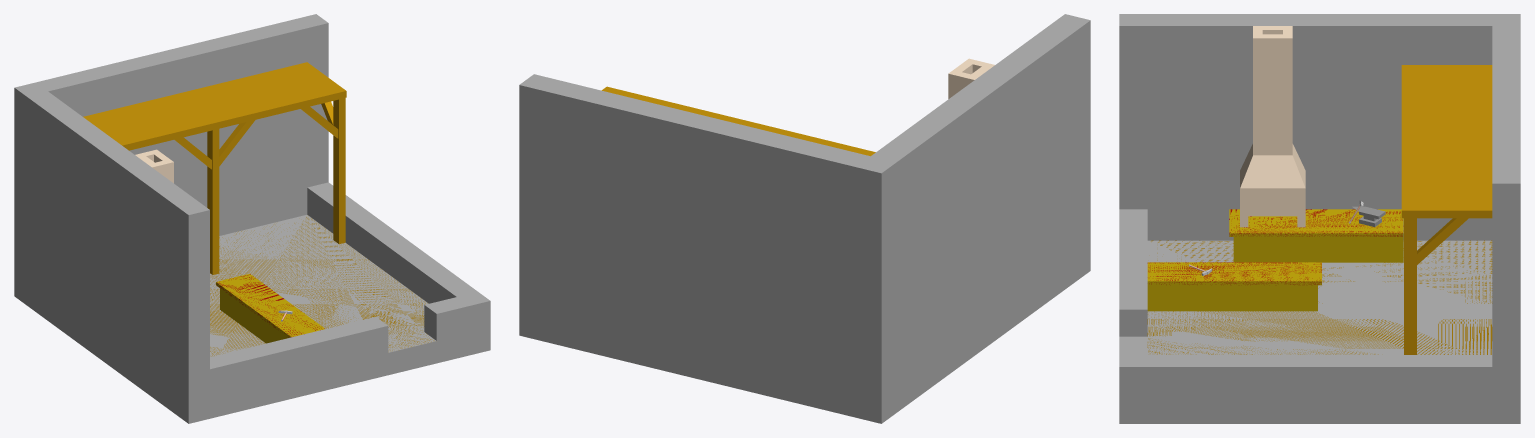
The model's file is herreria.fbx.
3 renders of one model, left to right at view 1: azimuth 30°, elevation 25°; view 2: azimuth 150°, elevation 25°; view 3: azimuth 270°, elevation 25°, orthographic. The views are drawn at different scales.
Parts seen in each view (by area): view 1: group_0, group_1, group_2, group_6, group_2.003, group_5, group_7, group_2.005; view 2: group_0, group_2, group_7; view 3: group_0, group_1, group_2, group_7, group_5, group_3, group_6, group_4.
Boxes of the visible parts, bbox=[...] form: group_0: bbox=[14, 14, 490, 423]; group_1: bbox=[210, 215, 436, 356]; group_2: bbox=[83, 62, 346, 244]; group_6: bbox=[216, 273, 324, 337]; group_2.003: bbox=[207, 129, 219, 274]; group_5: bbox=[220, 288, 287, 343]; group_7: bbox=[135, 149, 173, 183]; group_2.005: bbox=[219, 120, 255, 166]; group_0: bbox=[519, 14, 1090, 423]; group_2: bbox=[601, 86, 875, 156]; group_7: bbox=[948, 58, 994, 98]; group_0: bbox=[1119, 14, 1520, 423]; group_1: bbox=[1147, 240, 1492, 354]; group_2: bbox=[1401, 65, 1492, 354]; group_7: bbox=[1240, 26, 1305, 227]; group_5: bbox=[1147, 285, 1317, 311]; group_3: bbox=[1233, 237, 1403, 262]; group_6: bbox=[1147, 262, 1321, 285]; group_4: bbox=[1229, 209, 1403, 236].
Bounding box in the file's own units: 932 × 616 × 932.
